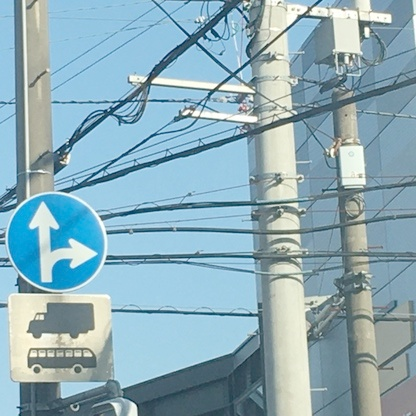Direction_sign: (1, 198, 111, 289)
